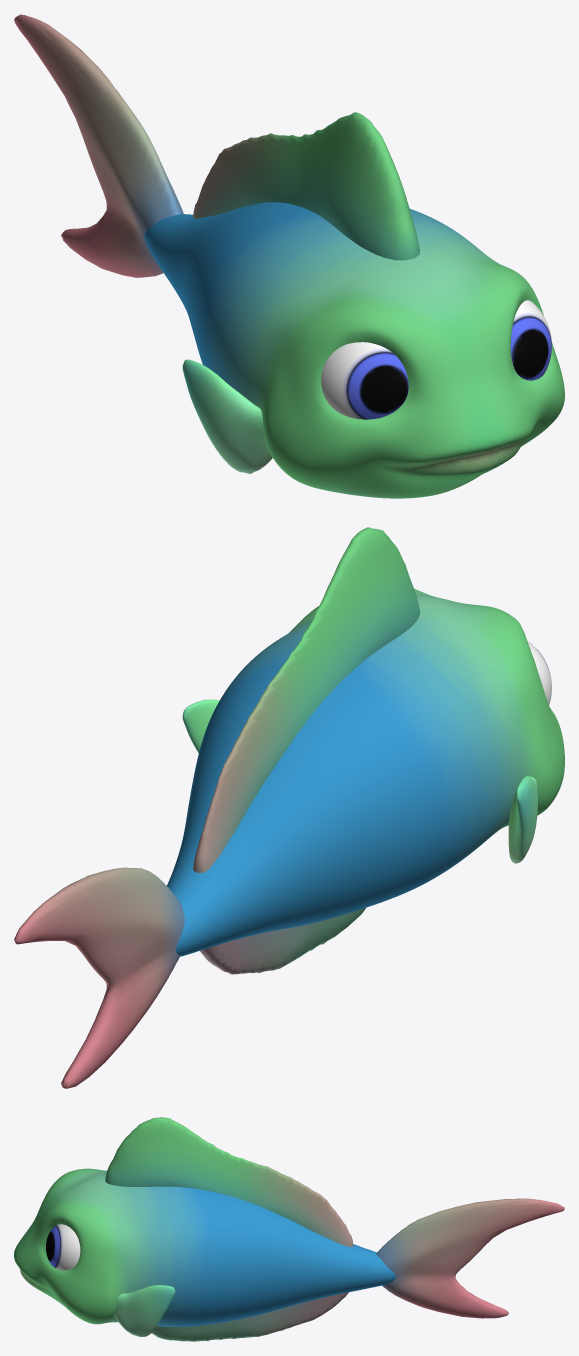
The model's file is fish.fbx.
The picture shows the model from 3 angles, top to bottom: view 1: azimuth 30°, elevation 25°; view 2: azimuth 150°, elevation 25°; view 3: azimuth 270°, elevation 25°; orthographic projection. The views are drawn at different scales.
Visible parts, largest first — view 1: Sphere.025, Sphere.028, Sphere.030, Little fish 02 Eyes_Base, Sphere.027; view 2: Sphere.025, Sphere.028, Sphere.030, Sphere.029, Sphere.027; view 3: Sphere.025, Sphere.028, Sphere.030, Sphere.029, Sphere.027, Little fish 02 Eyes_Base.
Boxes of the visible parts, bbox=[...] form: Sphere.025: bbox=[144, 202, 564, 498]; Sphere.028: bbox=[193, 112, 419, 260]; Sphere.030: bbox=[14, 14, 183, 277]; Little fish 02 Eyes_Base: bbox=[321, 300, 551, 419]; Sphere.027: bbox=[182, 359, 272, 473]; Sphere.025: bbox=[167, 589, 564, 956]; Sphere.028: bbox=[193, 527, 419, 872]; Sphere.030: bbox=[14, 867, 184, 1088]; Sphere.029: bbox=[200, 908, 365, 974]; Sphere.027: bbox=[182, 699, 537, 863]; Sphere.025: bbox=[14, 1168, 395, 1326]; Sphere.028: bbox=[105, 1117, 353, 1247]; Sphere.030: bbox=[376, 1198, 564, 1318]; Sphere.029: bbox=[151, 1292, 348, 1341]; Sphere.027: bbox=[114, 1285, 175, 1336]; Little fish 02 Eyes_Base: bbox=[46, 1224, 80, 1270].
Size of the model in its own units: 35.3 by 38.2 by 85.45.
